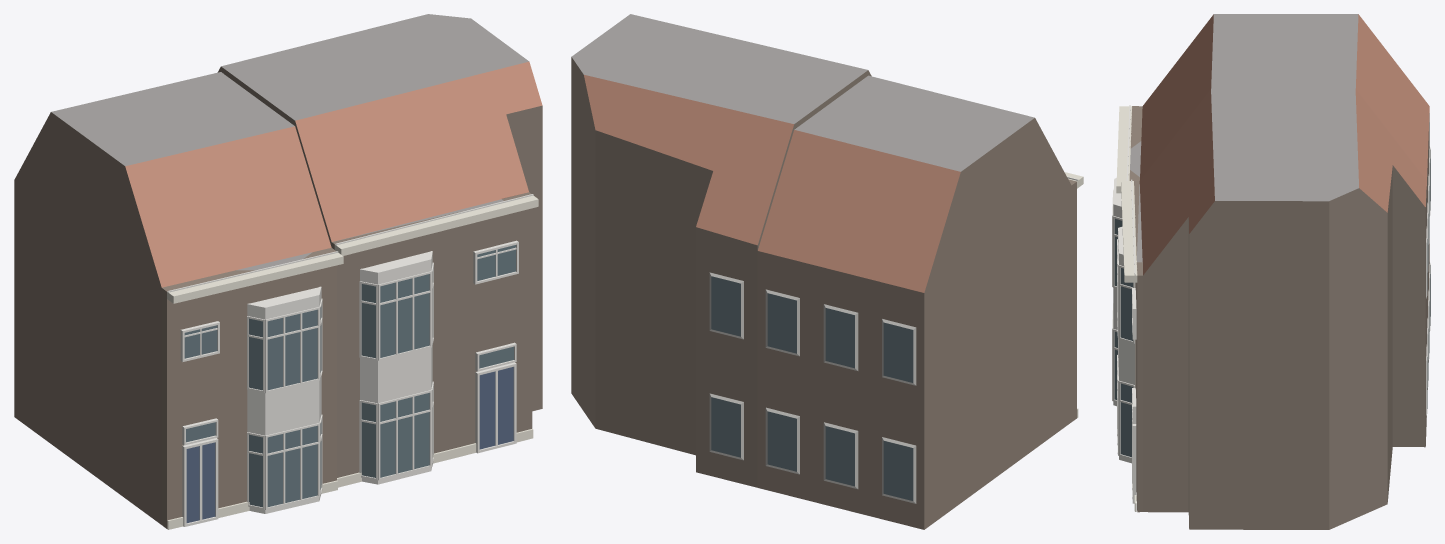
File: chunk-face-transvaalkade-103-105.glb
The picture shows the model from 3 angles, left to right: view 1: azimuth 30°, elevation 25°; view 2: azimuth 150°, elevation 25°; view 3: azimuth 270°, elevation 25°; orthographic projection. The views are drawn at different scales.
Visible parts, largest first — view 1: face-transvaalkade-103-105; view 2: face-transvaalkade-103-105; view 3: face-transvaalkade-103-105.
Boxes of the visible parts, x1,y1,x2,y2 form: face-transvaalkade-103-105: (14, 14, 542, 529); face-transvaalkade-103-105: (571, 14, 1083, 529); face-transvaalkade-103-105: (1112, 14, 1430, 529).
Size of the model in its own units: 14.34 by 11.41 by 10.02.
